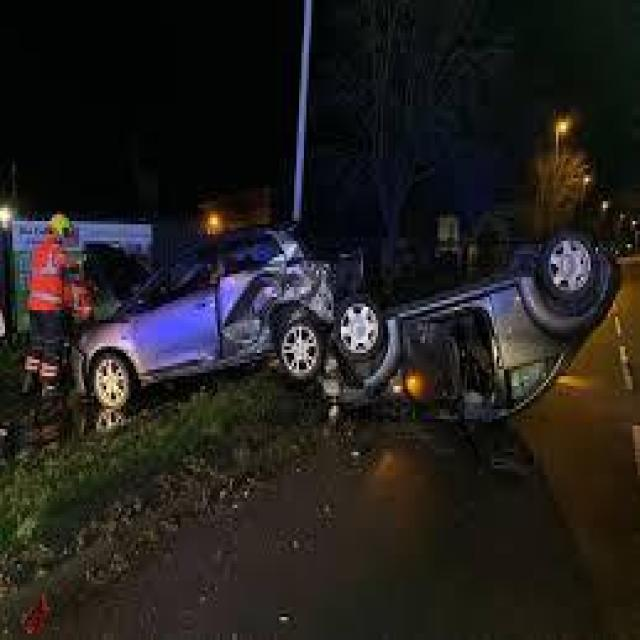severe: (64, 223, 618, 437)
